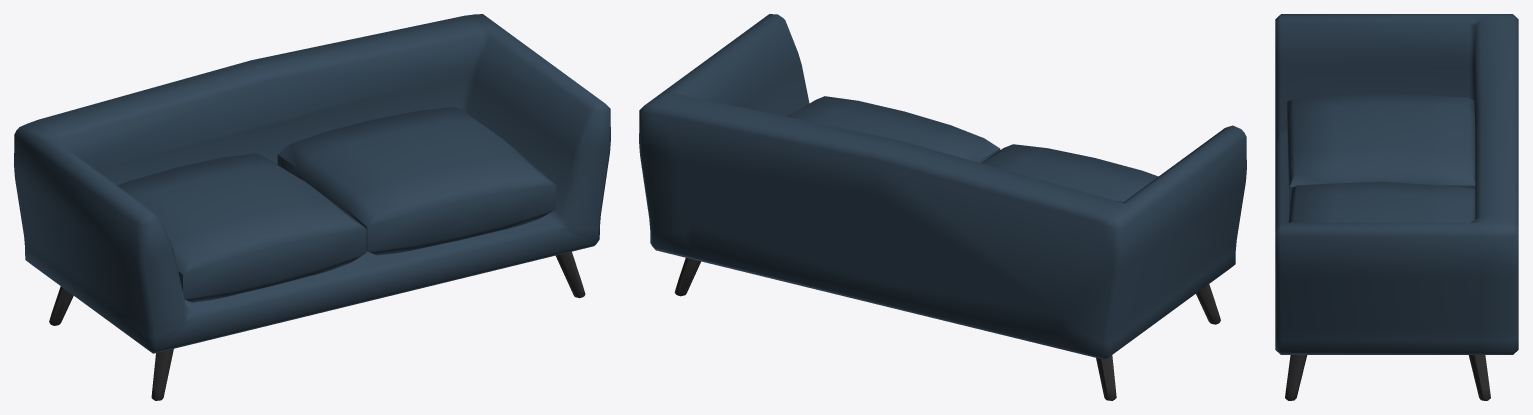
File: chair_medium.glb
3 views of the same model, side by side, from view 1: azimuth 30°, elevation 25°; view 2: azimuth 150°, elevation 25°; view 3: azimuth 270°, elevation 25° (orthographic). The views are drawn at different scales.
Visible parts, largest first — view 1: Couch_Medium1; view 2: Couch_Medium1; view 3: Couch_Medium1.
Boxes of the visible parts, <box> form: Couch_Medium1: <box>14,14,610,400</box>; Couch_Medium1: <box>639,14,1246,400</box>; Couch_Medium1: <box>1275,14,1518,400</box>.
Size of the model in its own units: 4.69 by 1.91 by 2.2.
